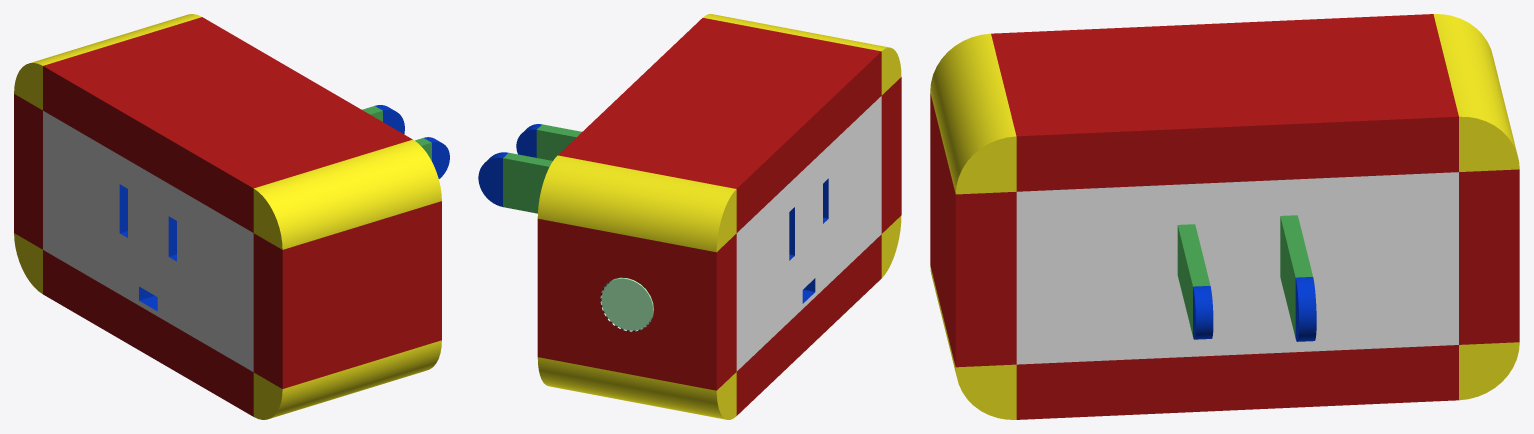
The model's file is Case_Study_SmartSwitch_7.glb.
The picture shows the model from 3 angles, left to right: view 1: azimuth 30°, elevation 25°; view 2: azimuth 150°, elevation 25°; view 3: azimuth 270°, elevation 25°; orthographic projection. The views are drawn at different scales.
Parts seen in each view (by area): view 1: Part 8, Part 12, Part 9, Part 10; view 2: Part 8, Part 9, Part 12, Part 13, Part 10, Part 11; view 3: Part 8, Part 12, Part 9, Part 13, Part 10.
Boxes of the visible parts, <box> form: Part 8: <box>14,17,441,416</box>; Part 12: <box>43,111,253,371</box>; Part 9: <box>14,14,441,419</box>; Part 10: <box>119,105,449,311</box>; Part 8: <box>537,18,901,415</box>; Part 9: <box>537,14,901,419</box>; Part 12: <box>736,96,881,371</box>; Part 13: <box>503,124,581,213</box>; Part 10: <box>478,124,828,303</box>; Part 11: <box>601,277,653,330</box>; Part 8: <box>930,14,1519,419</box>; Part 12: <box>1016,172,1458,364</box>; Part 9: <box>930,14,1519,419</box>; Part 13: <box>1177,215,1312,337</box>; Part 10: <box>1193,277,1316,341</box>.
Bounding box in the file's own units: 0.0588 × 0.0406 × 0.0766.
Materials: 7 (1 with a texture image).
